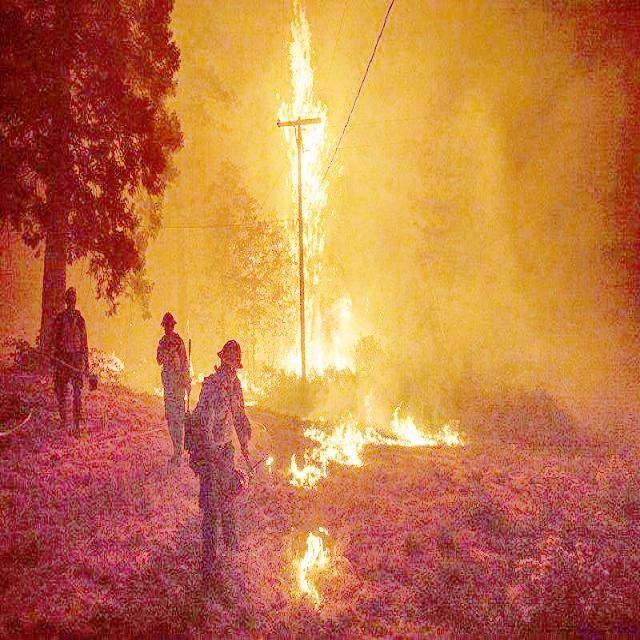api: (279, 393, 472, 498), (273, 2, 347, 261), (289, 287, 374, 381), (291, 521, 336, 610)
asap: (428, 64, 640, 417)
